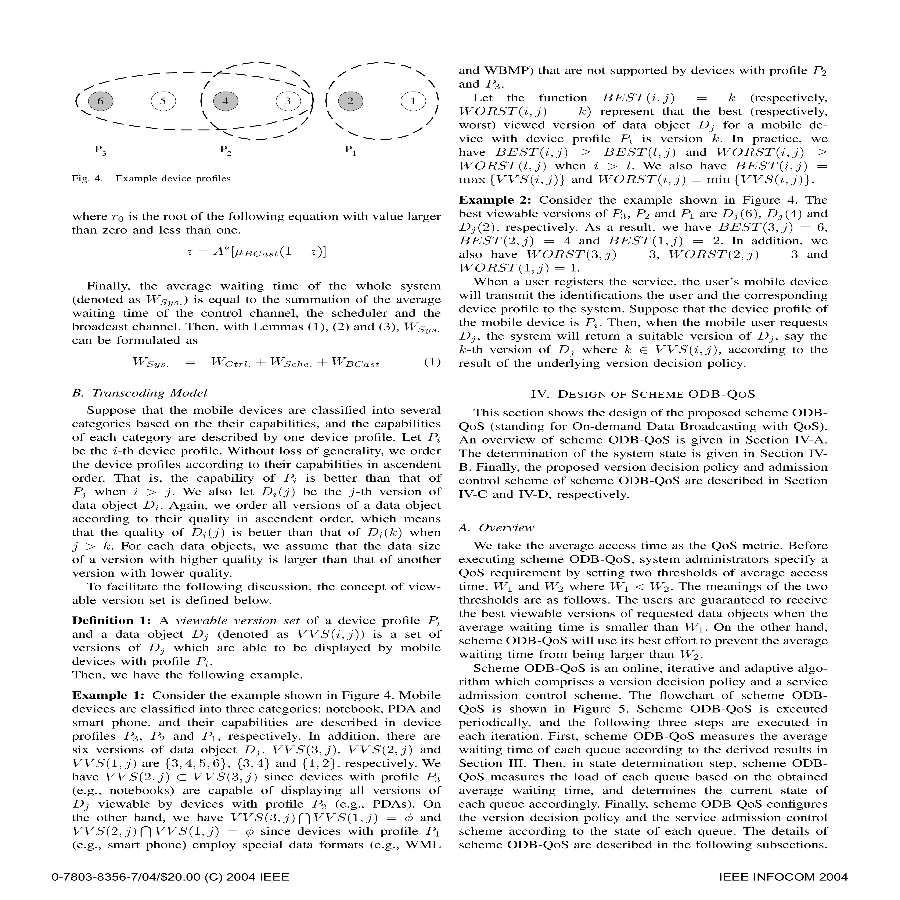eq: (131, 352, 384, 372), (185, 240, 328, 265)
